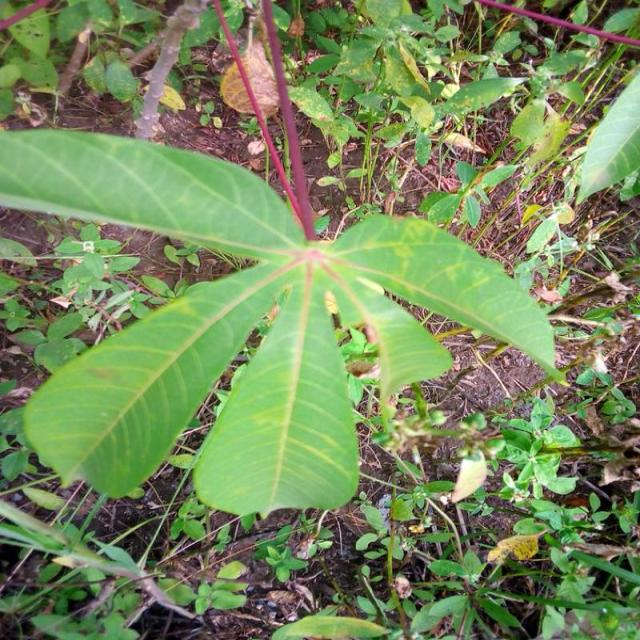cassava leaf: (2, 123, 564, 518), (192, 257, 361, 520)
